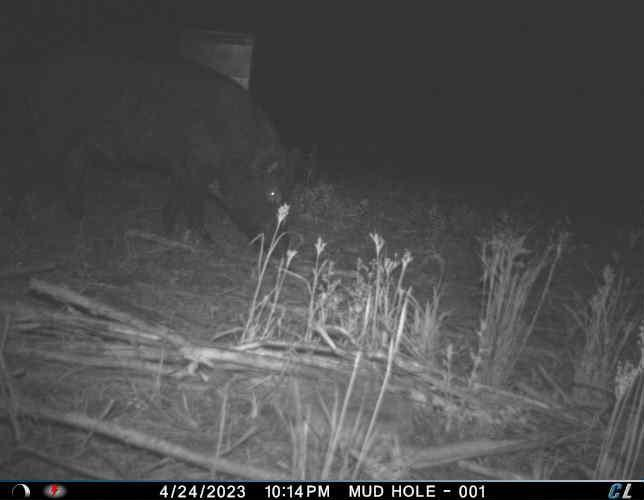Hog: (44, 42, 304, 262)
